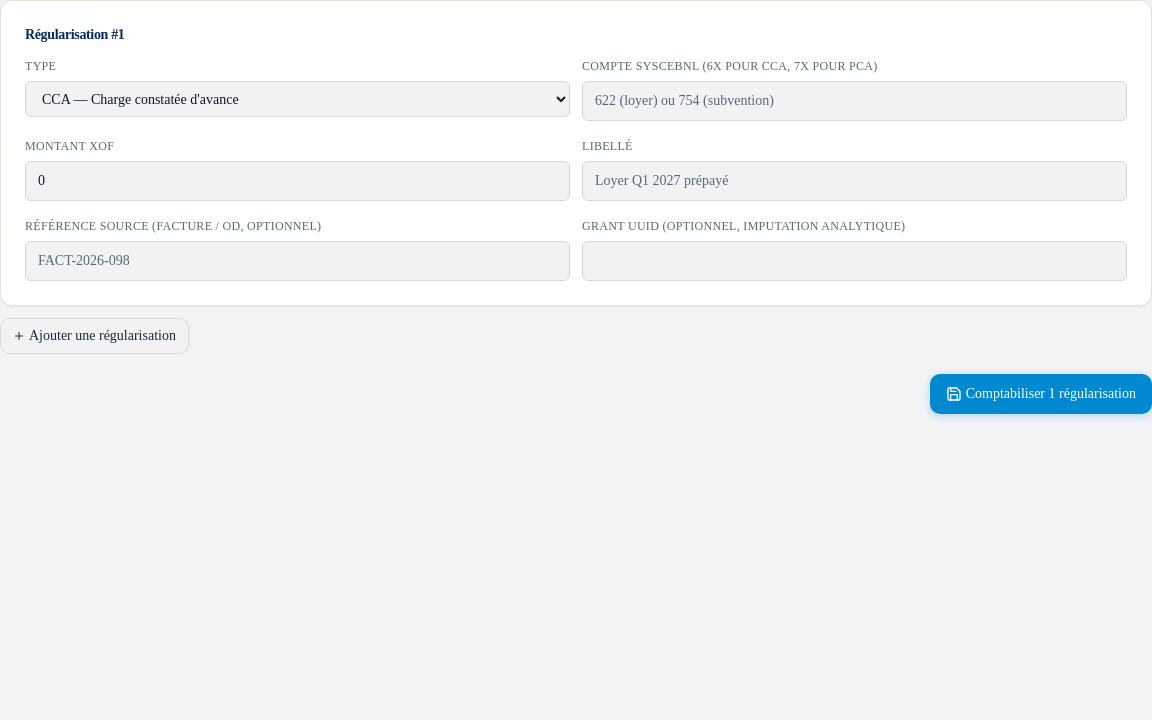
Test case: PrepaymentsForm › clic "Ajouter" ajoute une seconde entrée
What coordinates should you click on to do the following:
click the button with test id "prepayment-add"
I would click on:
 (94, 336)
Its box is [0, 318, 189, 354].
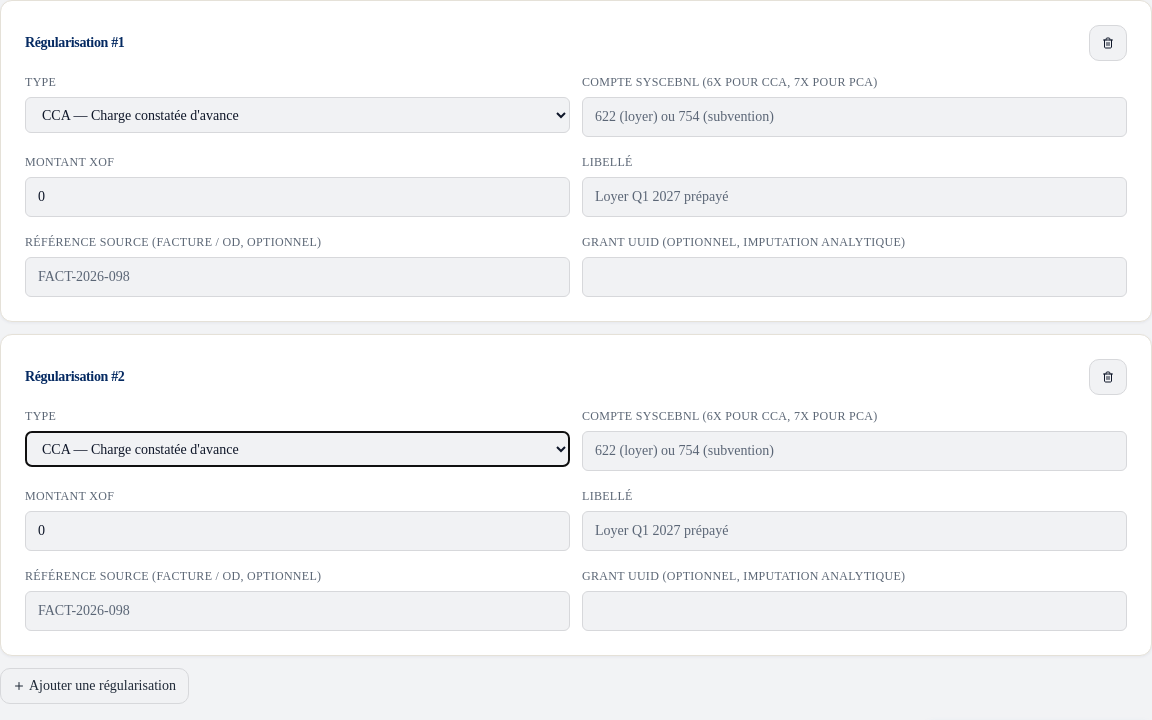
Expected: the element with test id "prepayment-entry-1" is shown, [0, 334, 1151, 656]
